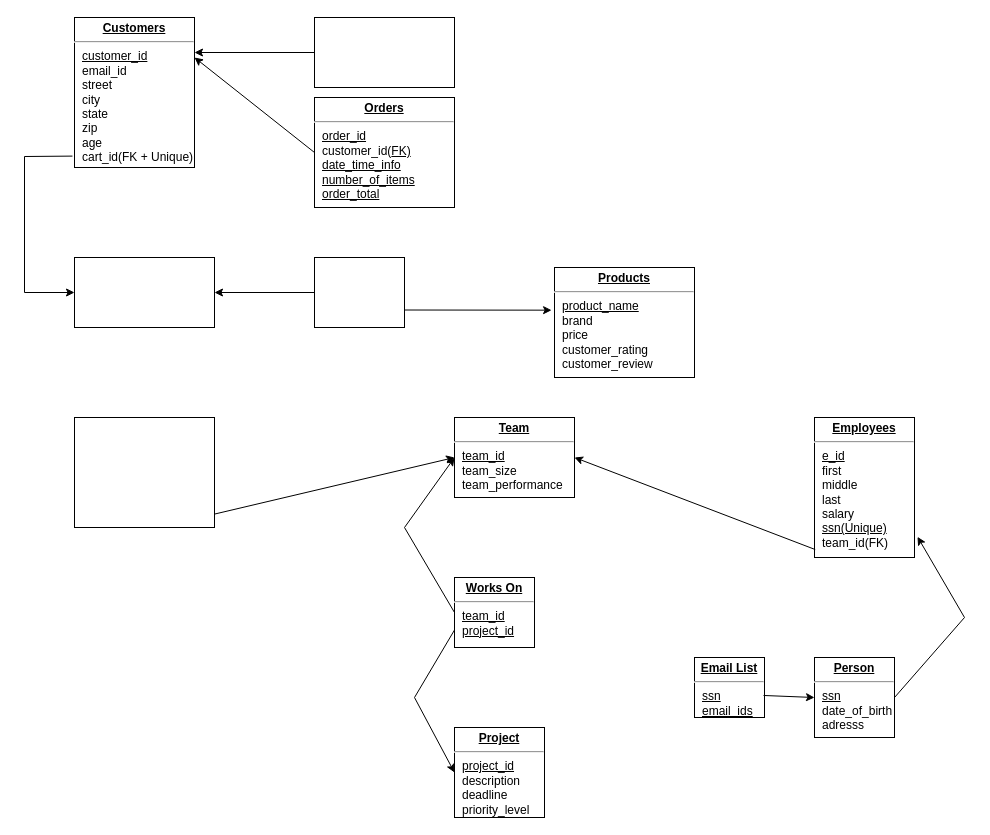
Image size: 990x835. Some labels were removed from this diagram. Each missing label, with the centre of its shape:
contains cart_id product_name: (359,292)
Customer_phones customer_id phone: (384,52)
Manager manager_id department branch join_date team_id(FK + Unique): (144,472)
Shopping Cart cart_id number_of_items: (144,292)
